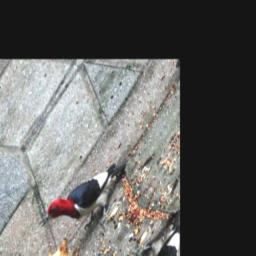Woodpecker: (33, 128, 142, 256)
